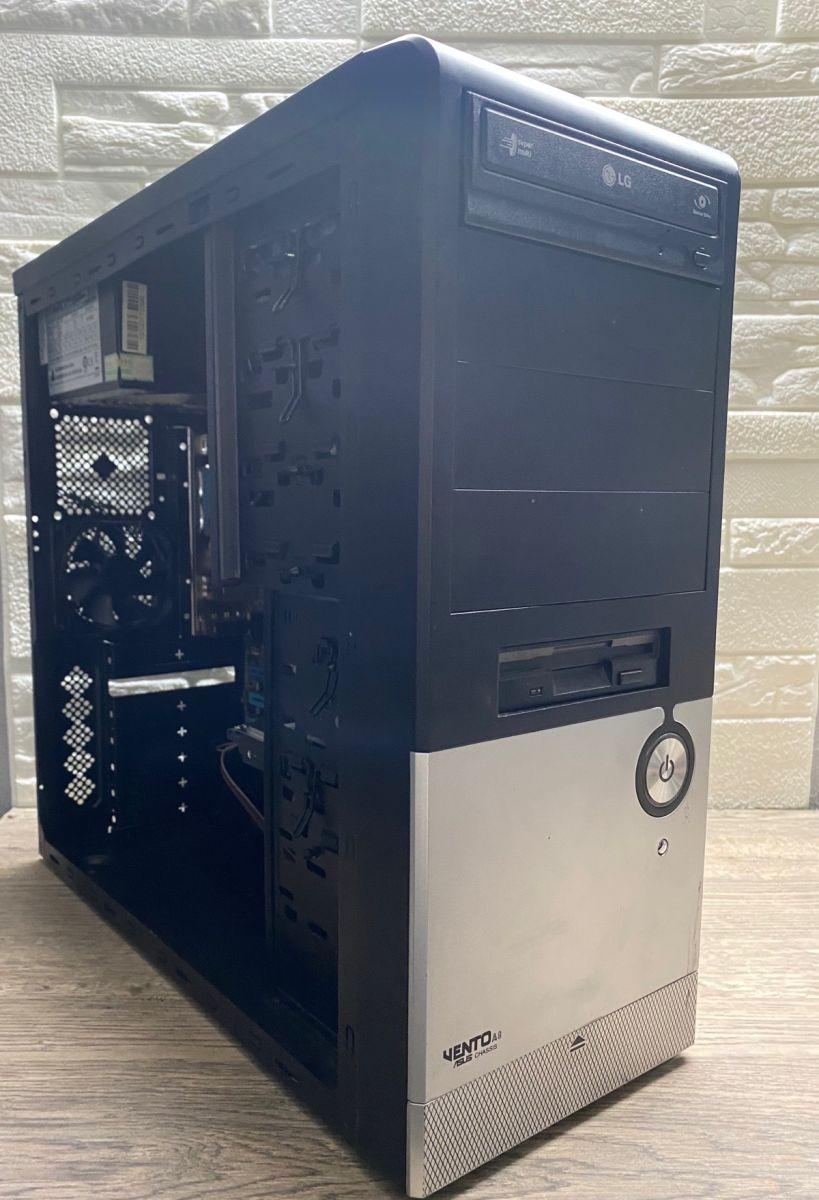DESKTOP PC: (22, 35, 736, 1196)
